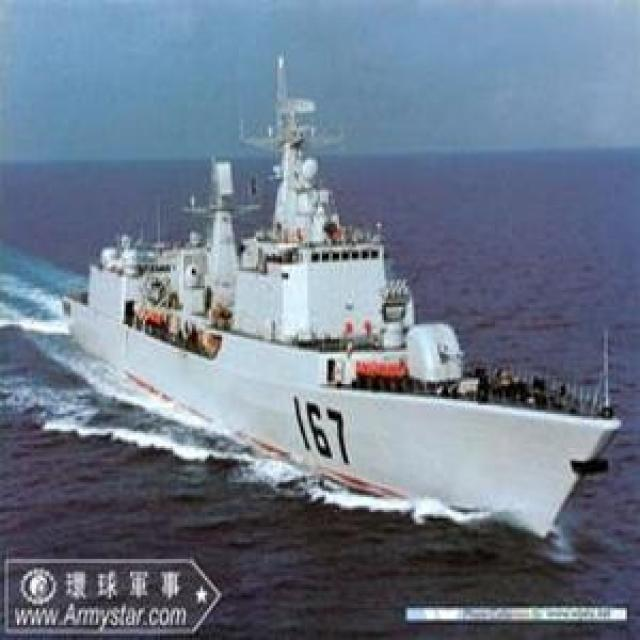navalvessels: (62, 80, 616, 536)
